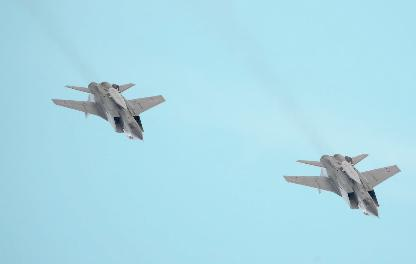Mig31: (282, 154, 400, 220), (51, 82, 165, 142)
